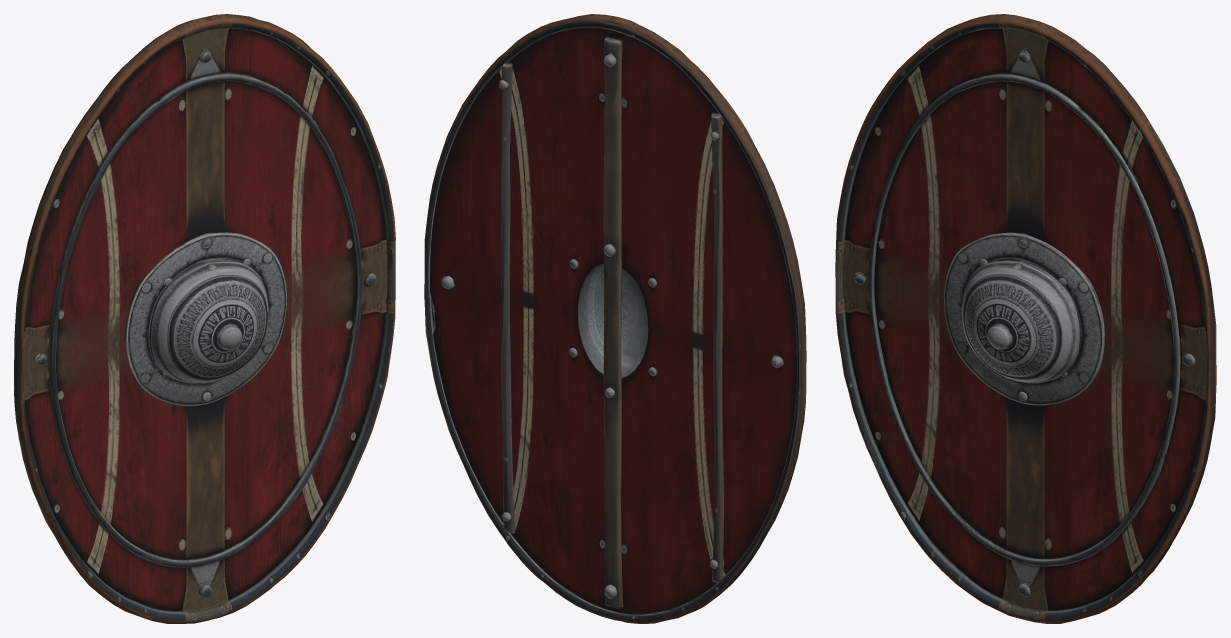
Rendered from gear_roman_cavalry_oval_shield_0.glb.
The picture shows the model from 3 angles, left to right: view 1: azimuth 30°, elevation 25°; view 2: azimuth 150°, elevation 25°; view 3: azimuth 330°, elevation 25°; orthographic projection.
Parts seen in each view (by area): view 1: MeshyGear_gear_roman_cavalry_oval_shield; view 2: MeshyGear_gear_roman_cavalry_oval_shield; view 3: MeshyGear_gear_roman_cavalry_oval_shield.
Part boxes in pixels (x1,y1,x2,y2): MeshyGear_gear_roman_cavalry_oval_shield: (14, 14, 395, 623); MeshyGear_gear_roman_cavalry_oval_shield: (424, 14, 806, 623); MeshyGear_gear_roman_cavalry_oval_shield: (835, 14, 1216, 623).
Size of the model in its own units: 0.72 by 1.1 by 0.1297.
1 material, 1 textured.
